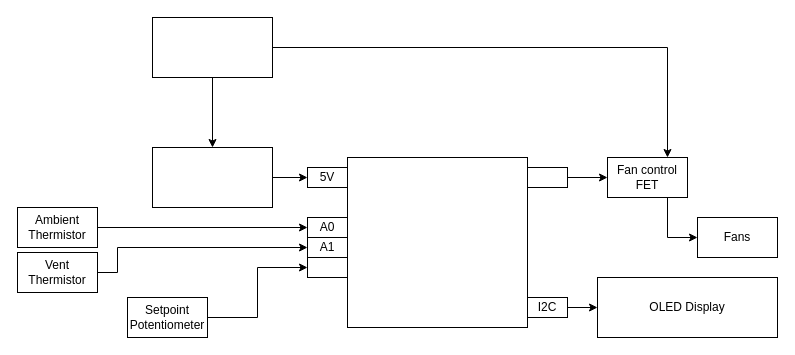
Some shapes in this 795 by 355 pixel diagram are drawn without their labels. Here are the shapes that lost their labels. From the top down, the centre of each, then its label:
At [212,47]: "110VAC to 12VDC Power Supply".
At [212,177]: "12V to 5V DC/DC Converter".
At [547,177]: "D10".
At [437,242]: "SAMD21 QT Py Arduino".
At [327,267]: "A2".
